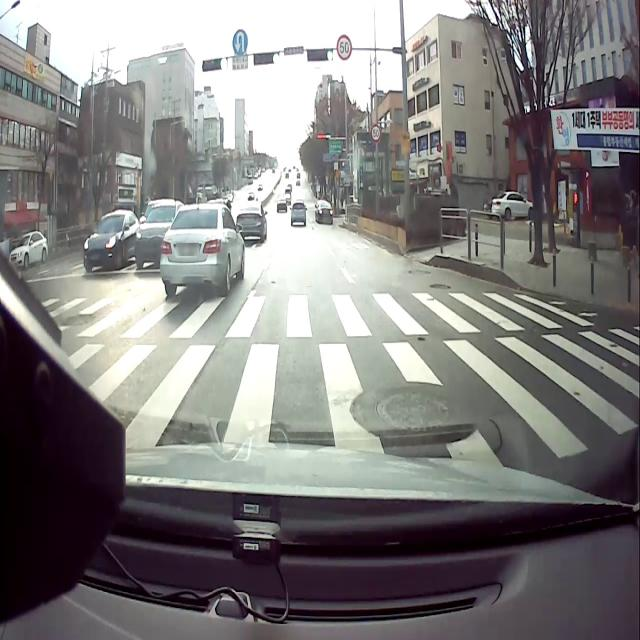Green Light: (219, 57, 228, 72), (326, 48, 334, 62), (272, 52, 280, 66)
